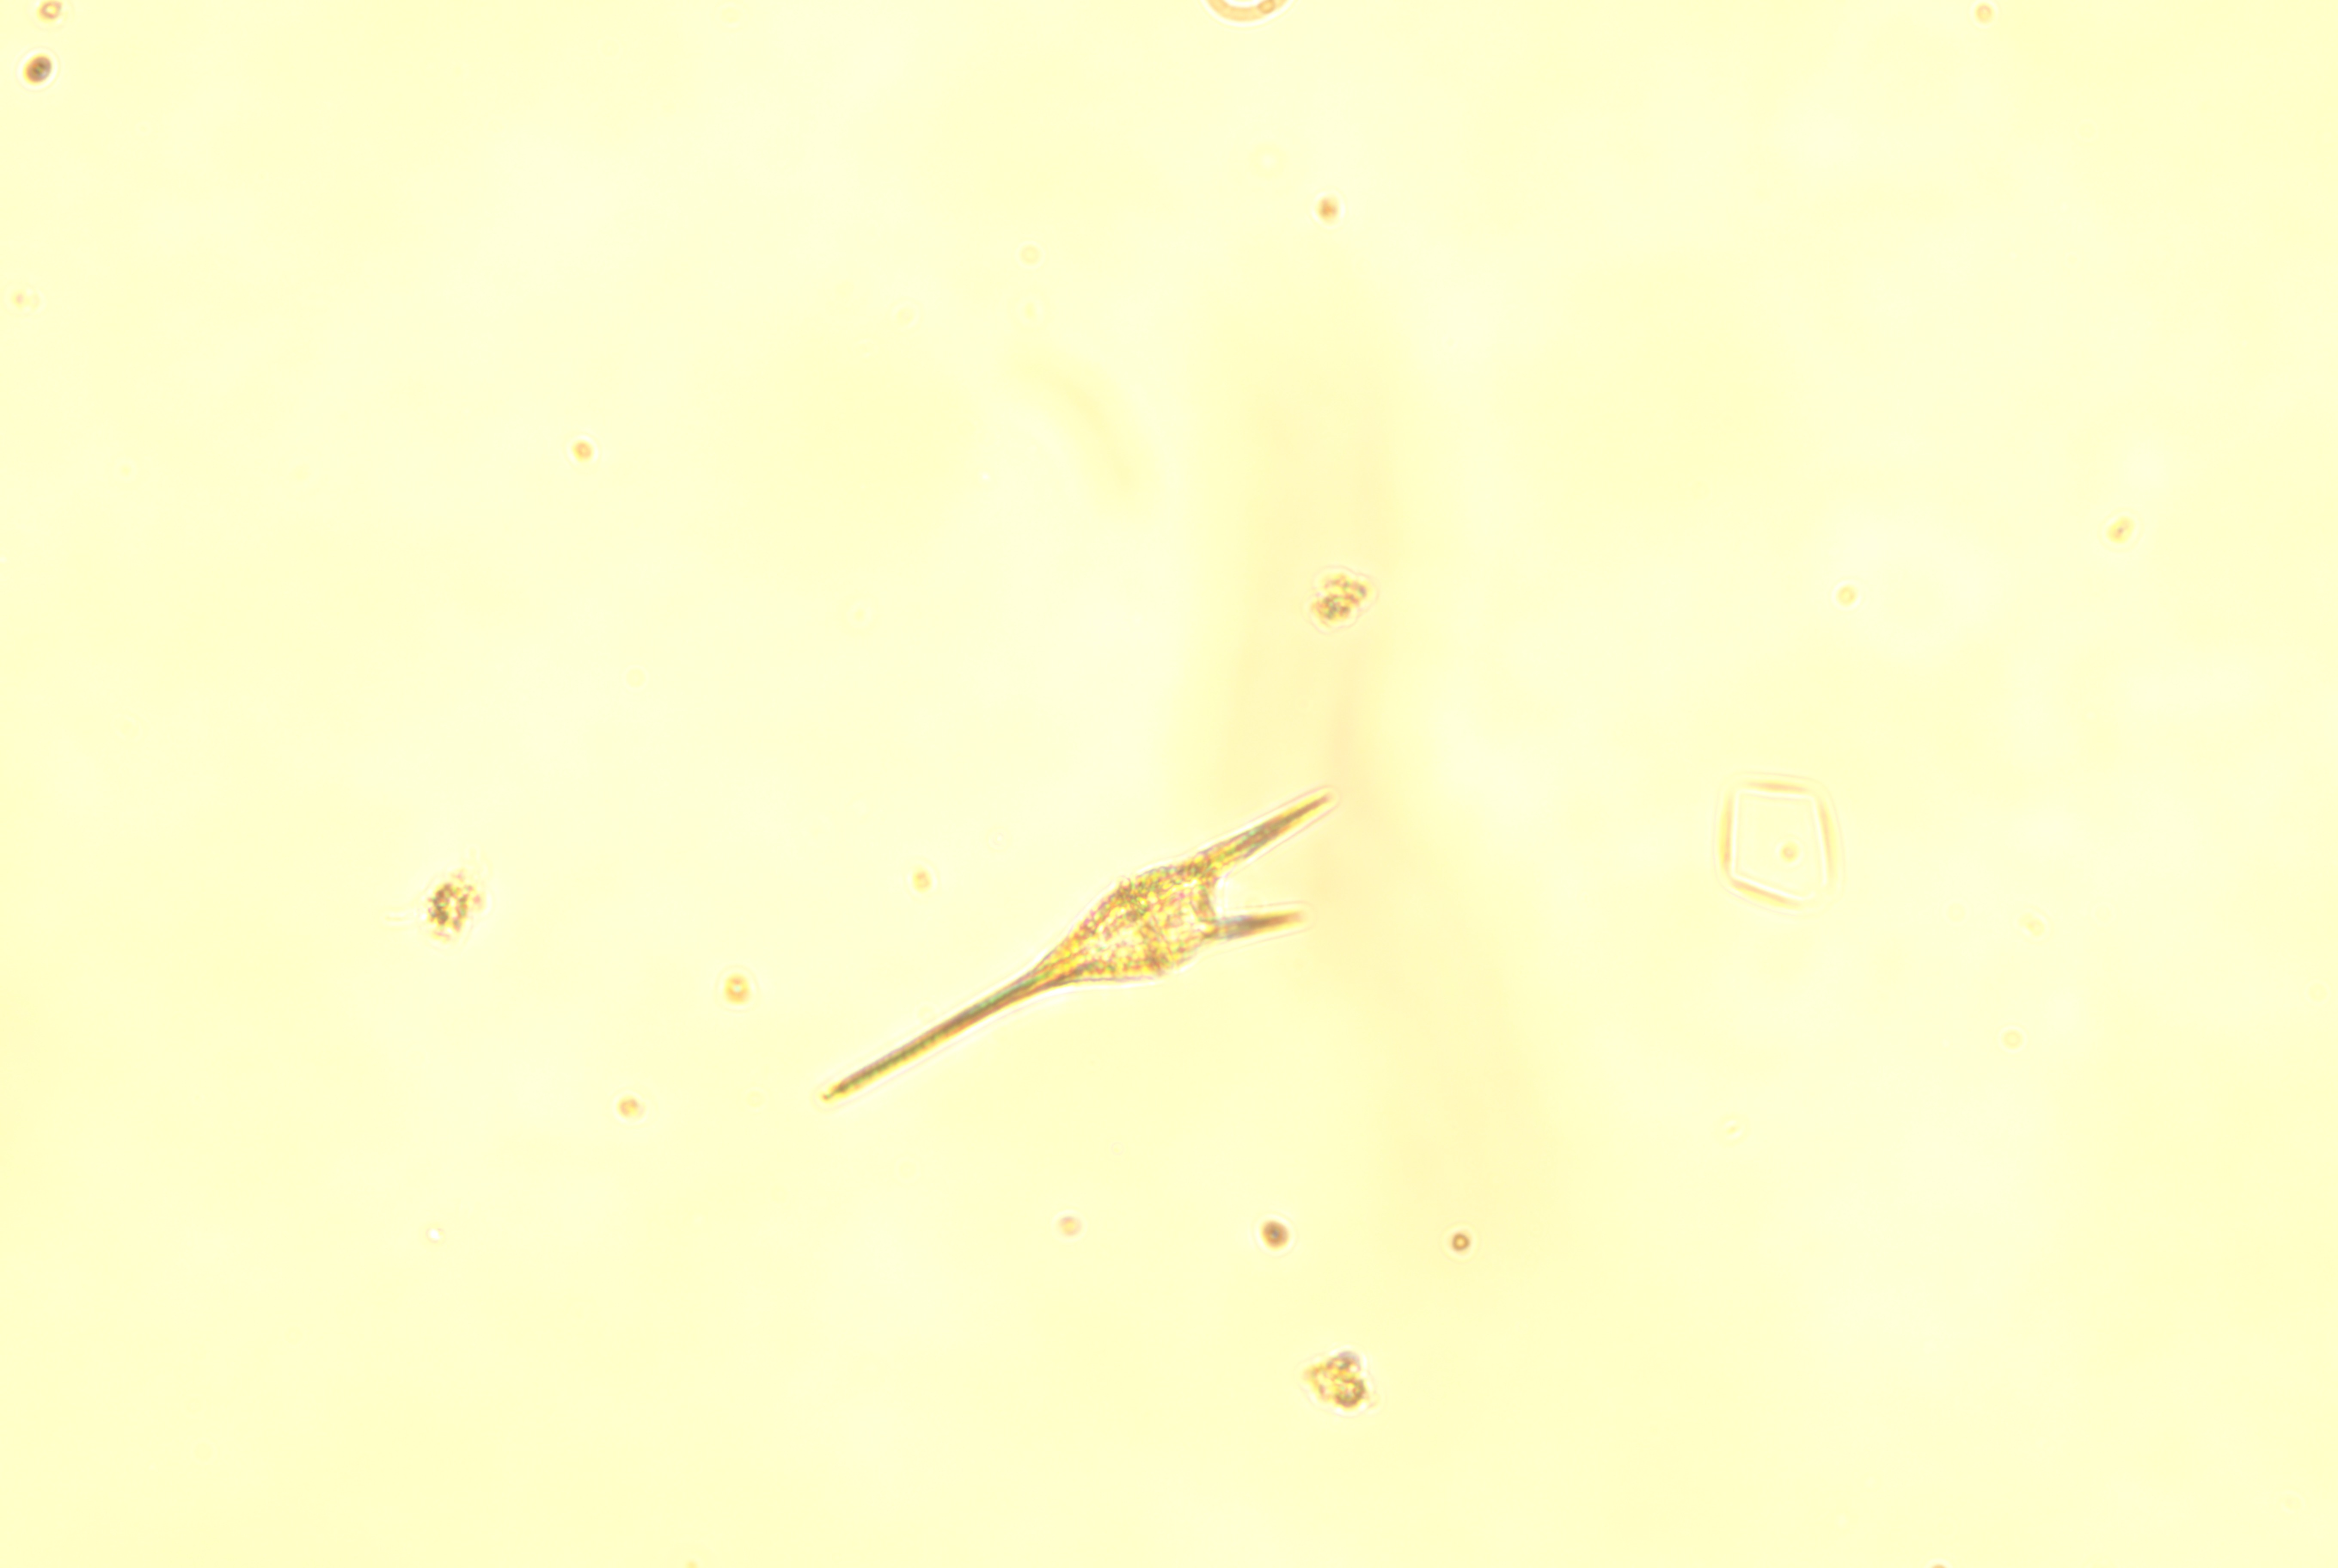ceratium furca: (810, 777, 1342, 1118)
